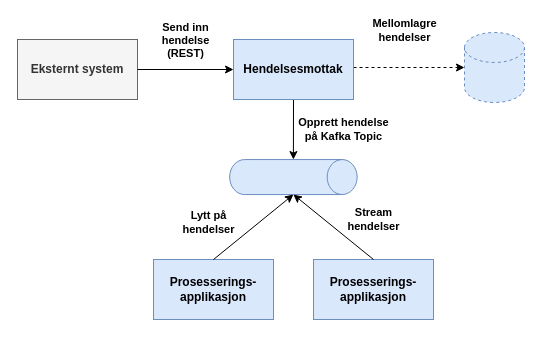
This 542x337 diagram has some shape labels left out. Here are the shapes that lost their labels. From the top down, the centre of each, then its label:
At [494,67]: "Hendelse DB".
At [293,177]: "Kafka Topic".
